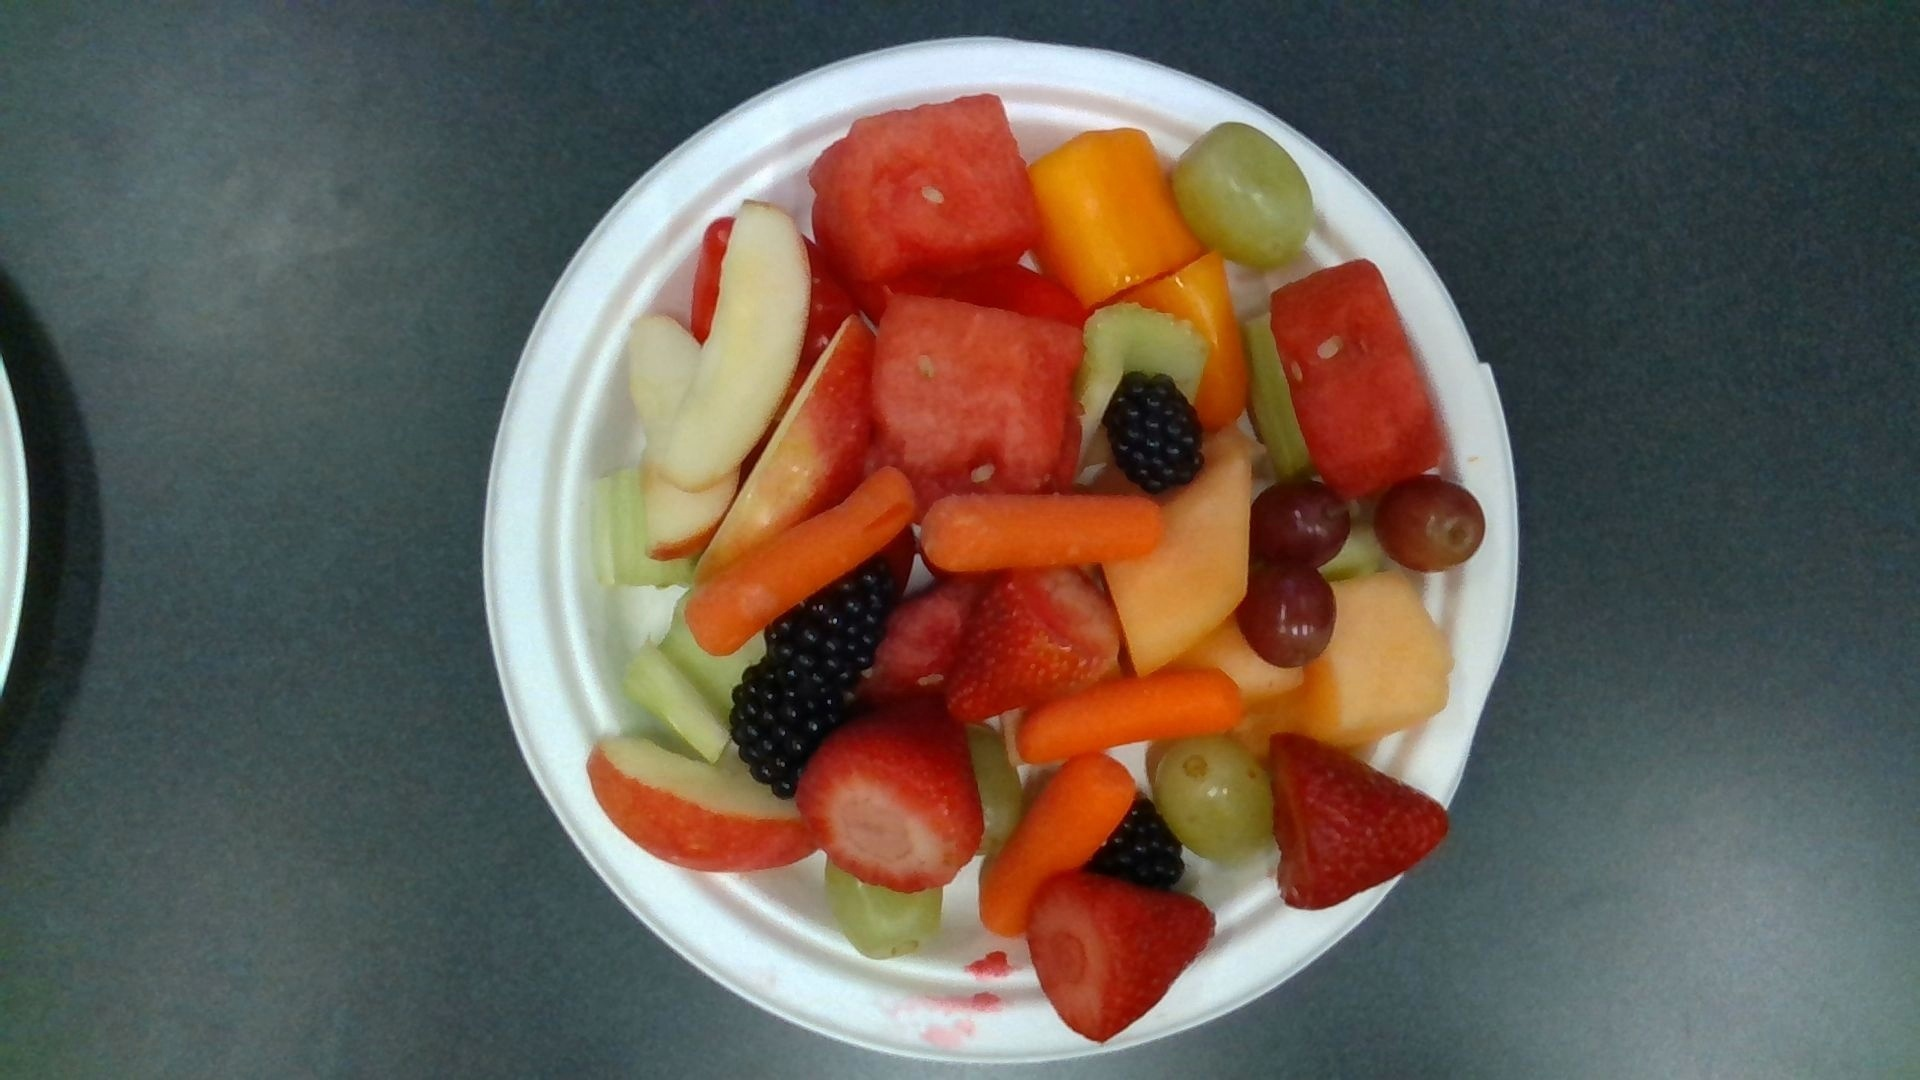apple: (690, 316, 884, 583), (654, 203, 810, 487), (589, 738, 819, 870)
bell_pepper: (1027, 131, 1193, 303)
blackberry: (732, 663, 858, 796), (764, 556, 899, 676), (1110, 375, 1203, 491)
cantalope: (1106, 448, 1249, 680), (1299, 570, 1449, 745)
carrot: (684, 468, 919, 655), (984, 756, 1137, 935), (1019, 670, 1240, 764), (922, 496, 1159, 564)
grape_green: (1175, 123, 1309, 266), (1159, 738, 1273, 856)
grape_purple: (1370, 485, 1487, 574), (1245, 564, 1335, 665), (1250, 487, 1350, 568)
melon: (1274, 261, 1444, 496), (880, 301, 1080, 496), (810, 102, 1027, 281)
strawberry: (800, 711, 984, 886), (1029, 873, 1215, 1044), (1270, 736, 1449, 911), (949, 566, 1125, 721)
